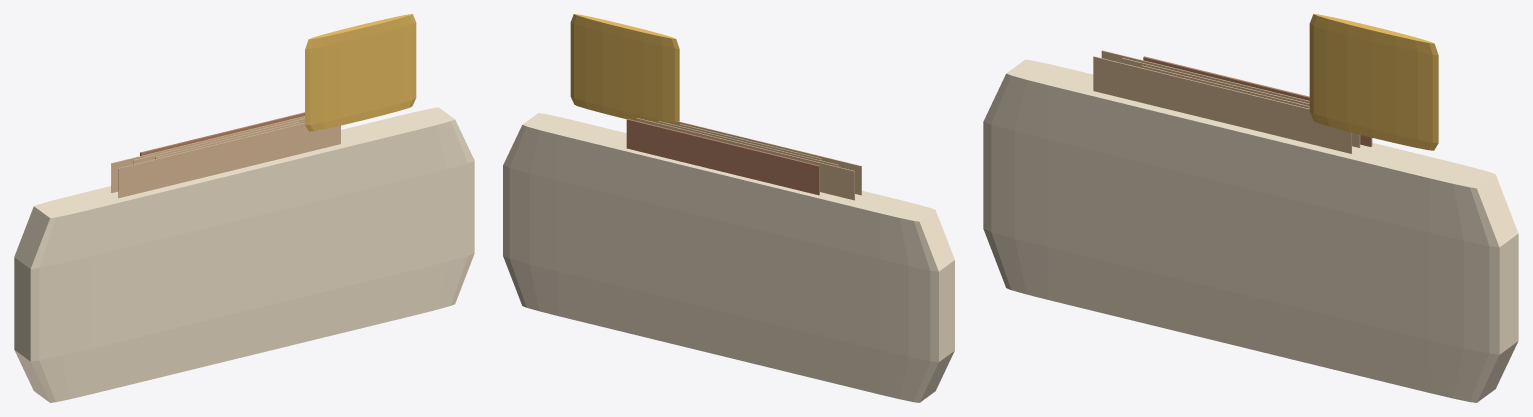
The model's file is certificate.glb.
The picture shows the model from 3 angles, left to right: view 1: azimuth 30°, elevation 25°; view 2: azimuth 150°, elevation 25°; view 3: azimuth 330°, elevation 25°; orthographic projection. The views are drawn at different scales.
Parts seen in each view (by area): view 1: model; view 2: model; view 3: model.
Part boxes in pixels (x1,y1,x2,y2): model: (14,14,474,402); model: (503,14,954,402); model: (983,14,1518,402).
Bounding box in the file's own units: 0.5 × 0.32 × 0.04.
